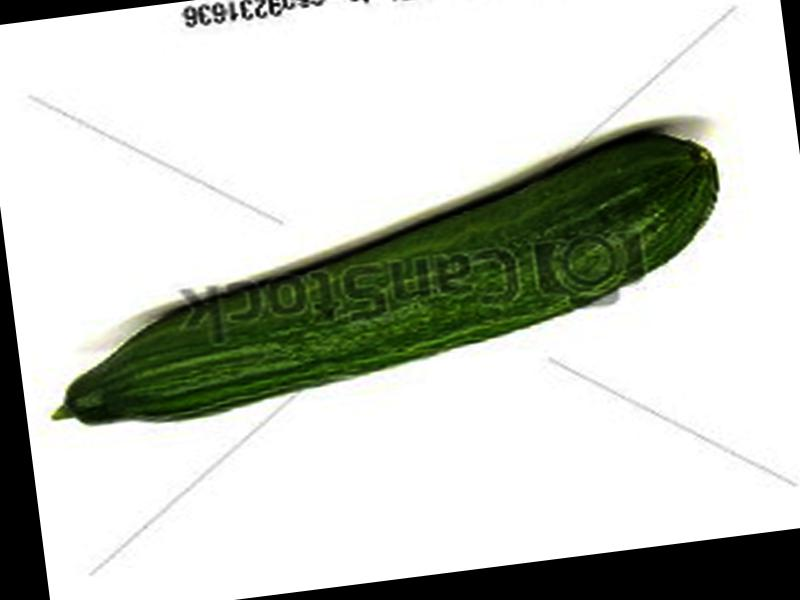Cucumber: (28, 126, 734, 432)
